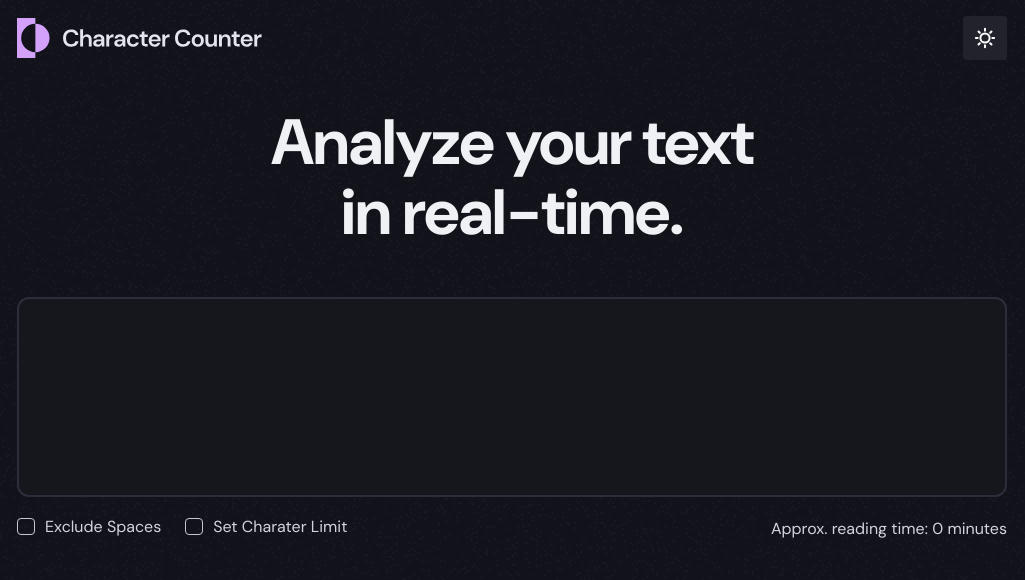
it: Character limit › should remove the exceed error message when text is reduced back to the limit
This screenshot has width=1025, height=580.
Click the checkbox labelled "Set Charater Limit" at (194, 527), box x1=185 y1=518 x2=203 y2=536
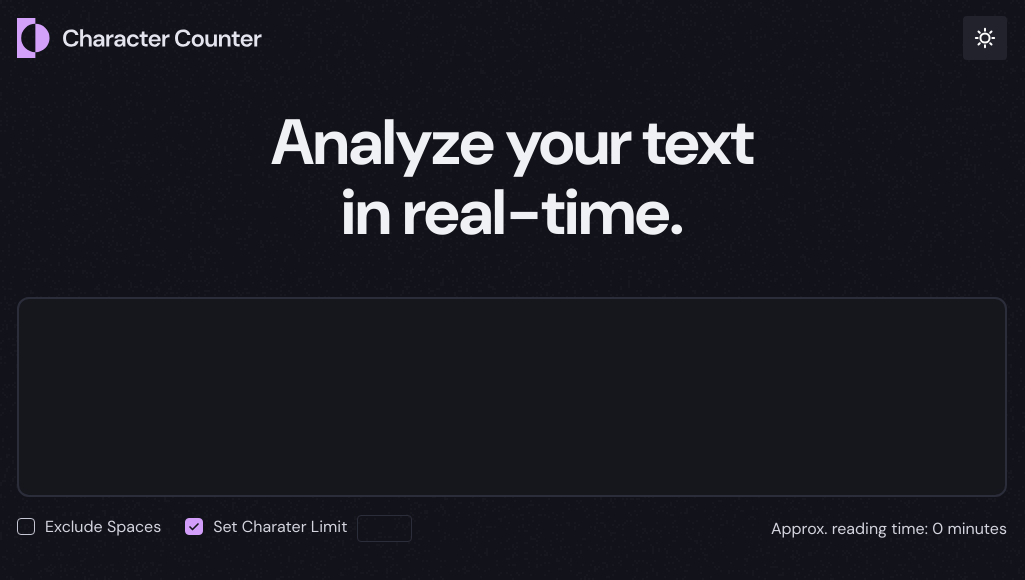
Type "20" into the field at (385, 529), box x1=357 y1=515 x2=412 y2=543
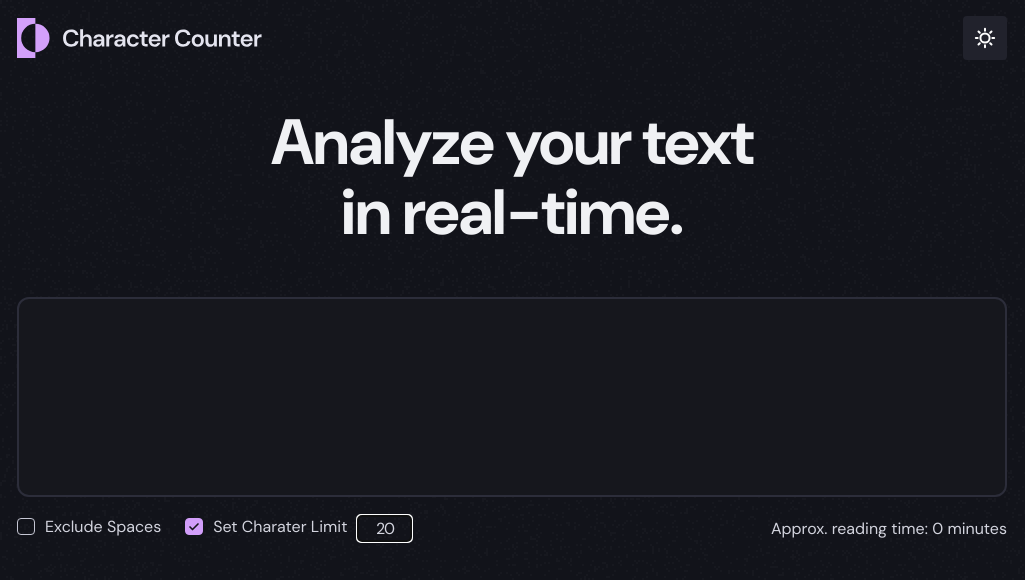
Type "LoremLorem, ipsum dolor." into the text box with test id "text-area-input" at (512, 397), box x1=17 y1=297 x2=1007 y2=497
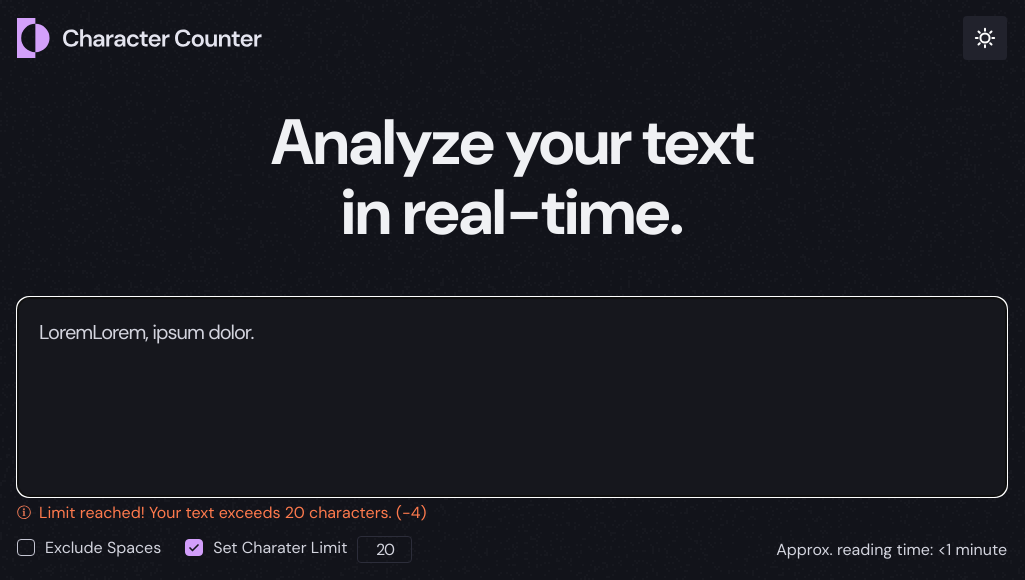
expect the element with test id "exceed-error" reads "Limit reached! Your text exceeds 20 characters. (-4)": met, box x1=17 y1=502 x2=426 y2=523
Press Backspace Backspace Backspace in the text box with test id "text-area-input", box x1=17 y1=297 x2=1007 y2=497
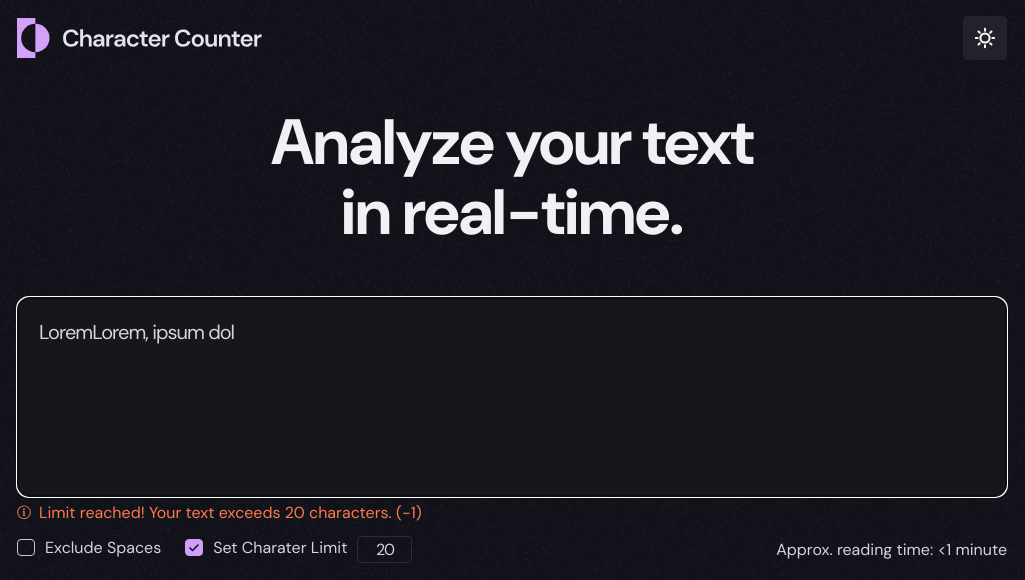
expect the element with test id "exceed-error" reads "Limit reached! Your text exceeds 20 characters. (-1)": met, box x1=17 y1=502 x2=422 y2=523
Press Backspace in the text box with test id "text-area-input", box x1=17 y1=297 x2=1007 y2=497
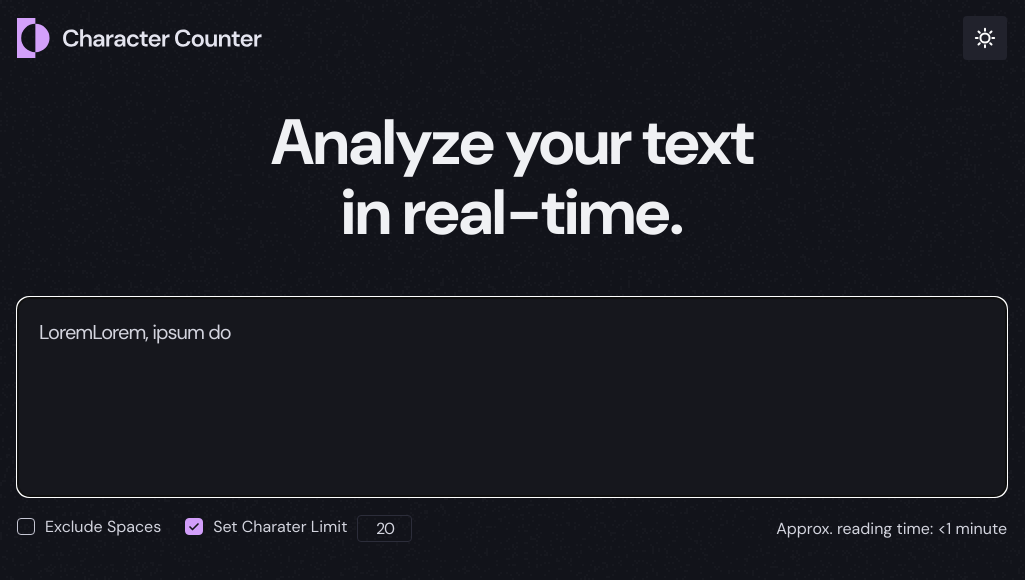
expect the element with test id "exceed-error" is gone: met
